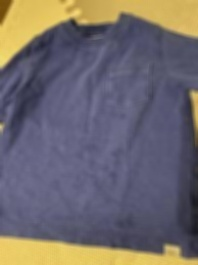oil: (102, 162, 118, 184), (113, 109, 131, 122)
